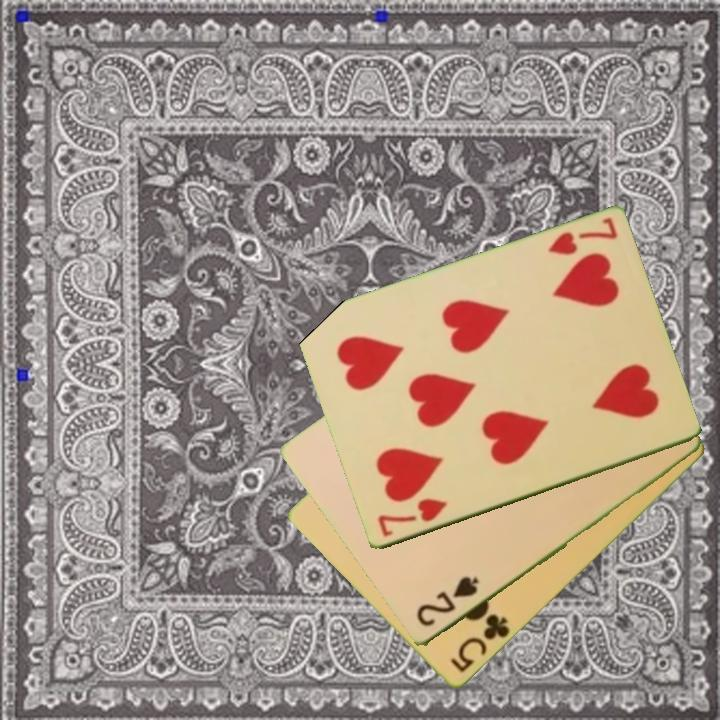2s: (413, 573, 482, 630)
5c: (446, 611, 513, 676)
7h: (373, 495, 451, 541), (544, 214, 621, 259)
